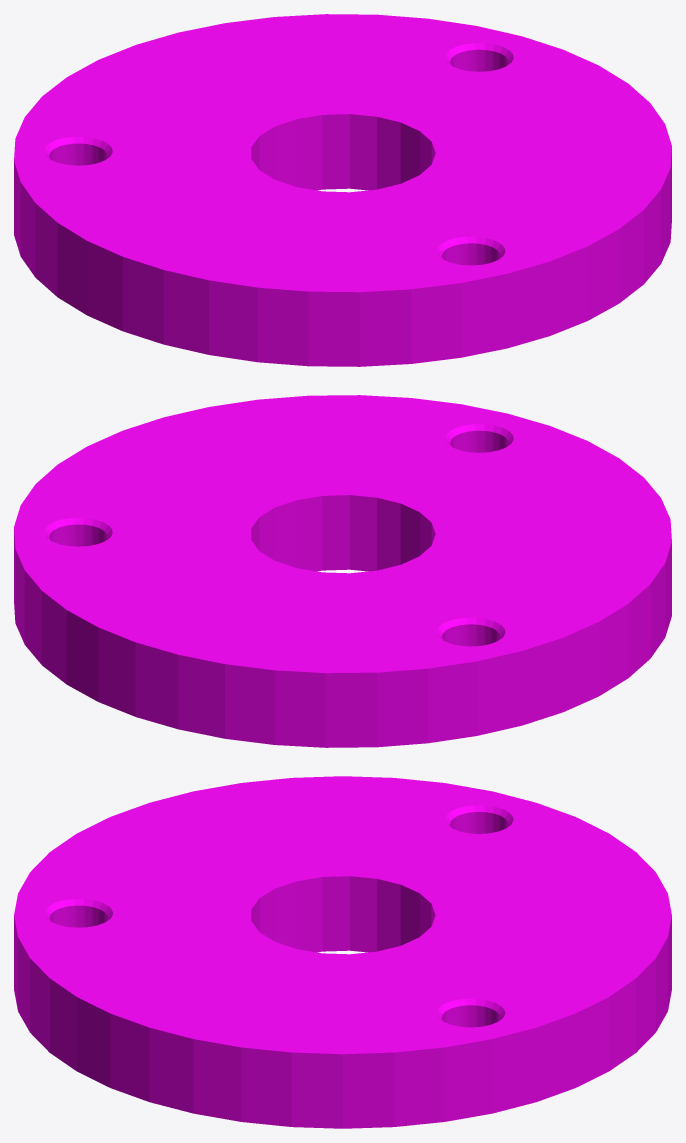
The model's file is handle_seal_plate.glb.
3 renders of one model, top to bottom at view 1: azimuth 30°, elevation 25°; view 2: azimuth 150°, elevation 25°; view 3: azimuth 270°, elevation 25°, orthographic.
Visible parts, largest first — view 1: Node1; view 2: Node1; view 3: Node1.
Part boxes in pixels (left/top/right/bottom): Node1: left=14, top=14, right=671, bottom=366; Node1: left=14, top=395, right=671, bottom=747; Node1: left=14, top=776, right=671, bottom=1128.
Bounding box in the file's own units: 50.8 × 6.35 × 50.8.
